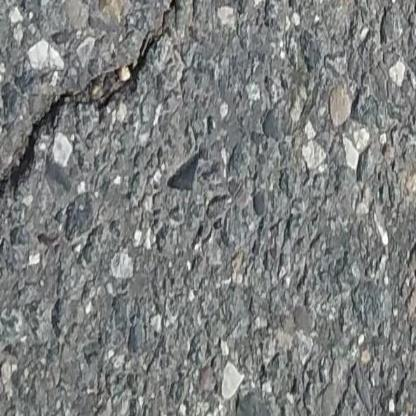Cracks: (0, 30, 160, 213)
